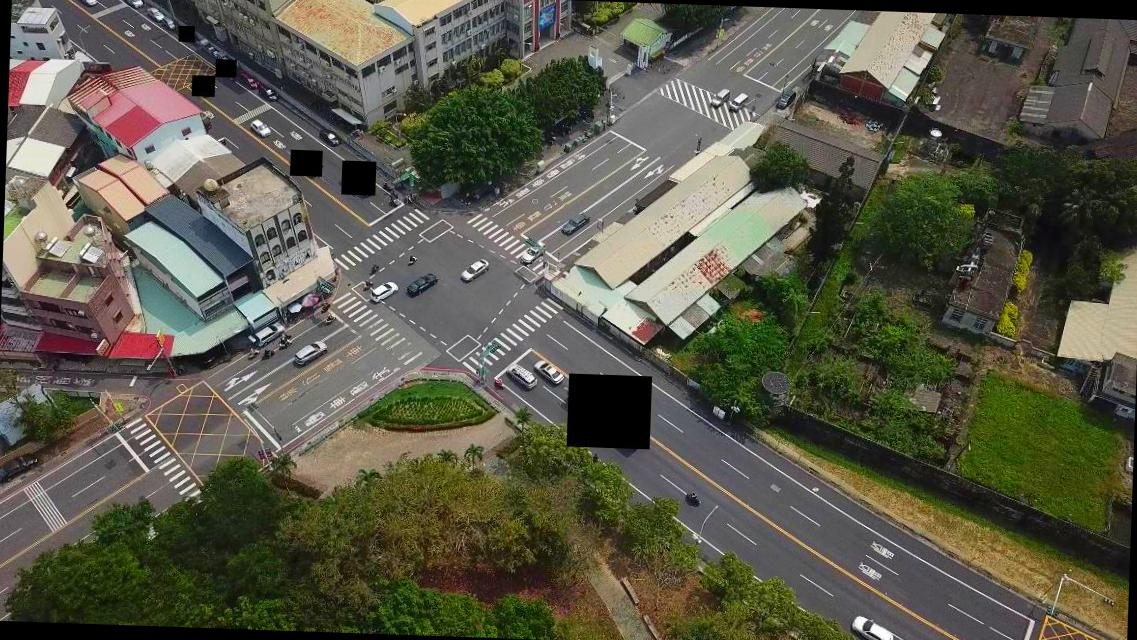vehicle: (0, 450, 40, 488), (848, 614, 896, 639), (291, 340, 326, 366), (532, 357, 564, 384), (506, 361, 536, 389), (251, 321, 285, 345), (460, 257, 489, 281), (408, 272, 438, 294), (561, 210, 588, 234), (372, 280, 398, 304), (521, 239, 545, 263), (774, 88, 794, 110), (249, 118, 271, 138), (238, 69, 258, 90), (260, 82, 280, 103), (711, 86, 730, 108), (728, 92, 747, 114), (318, 128, 340, 147), (146, 6, 164, 21), (160, 16, 176, 31), (121, 0, 144, 9), (72, 0, 98, 7)
